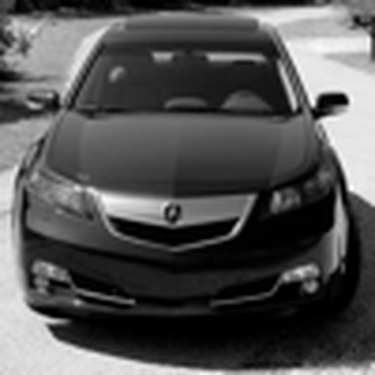car: (10, 10, 363, 337)
